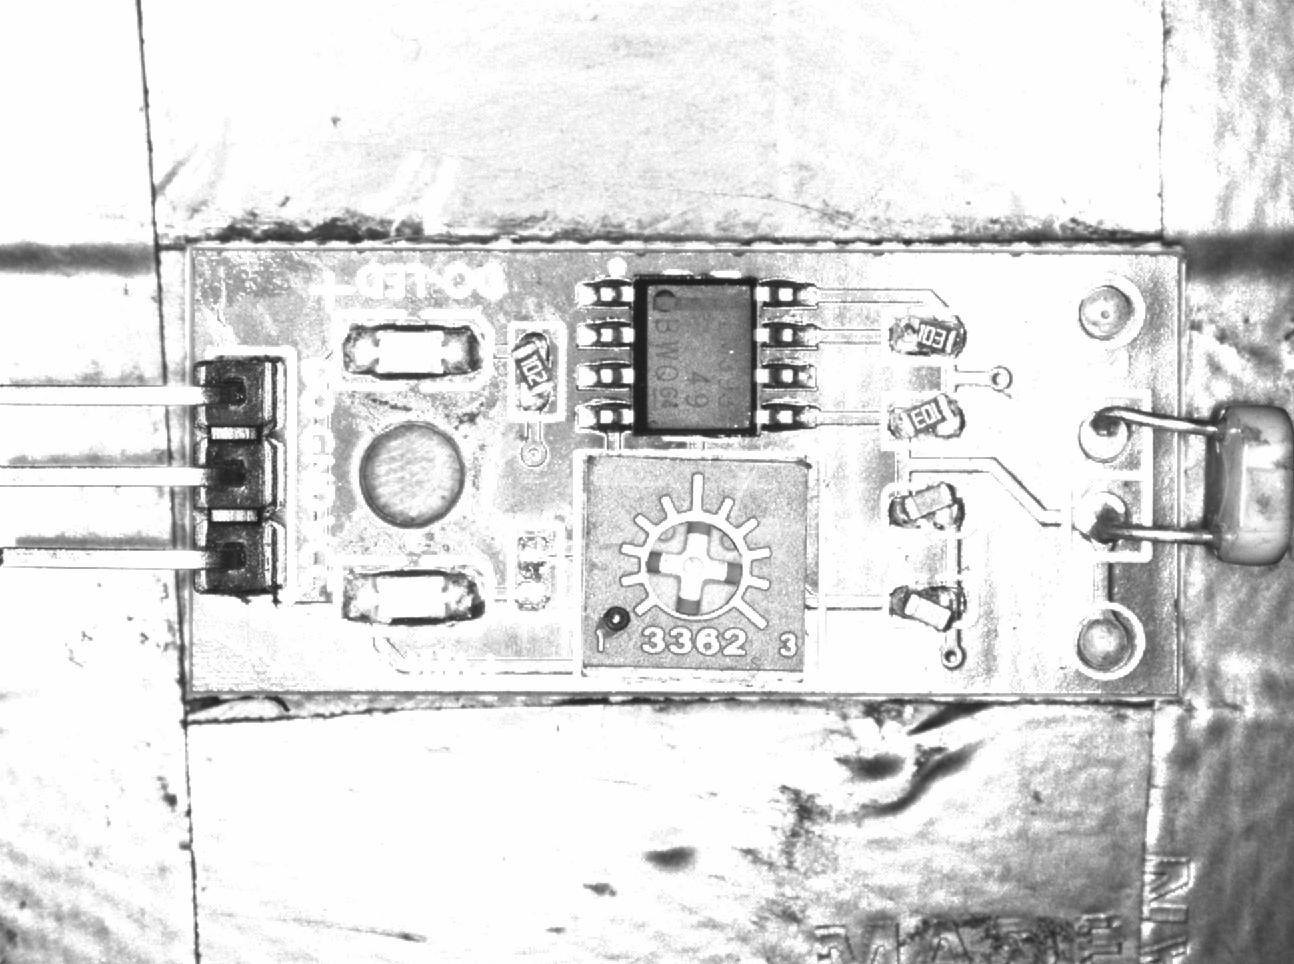lifted: (507, 322, 569, 417), (879, 479, 971, 542), (882, 574, 979, 631), (883, 308, 971, 364), (882, 390, 970, 445)
miss: (502, 519, 560, 620)
